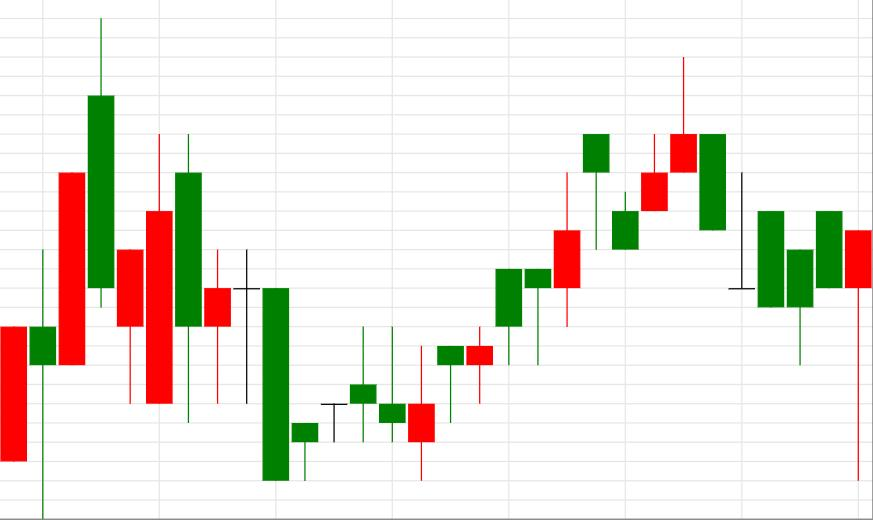hanging_man_fall: (408, 134, 609, 482)
